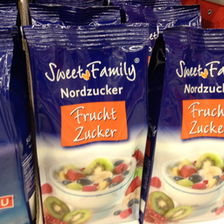tomato_sauce: (21, 22, 152, 224), (142, 27, 224, 222)
